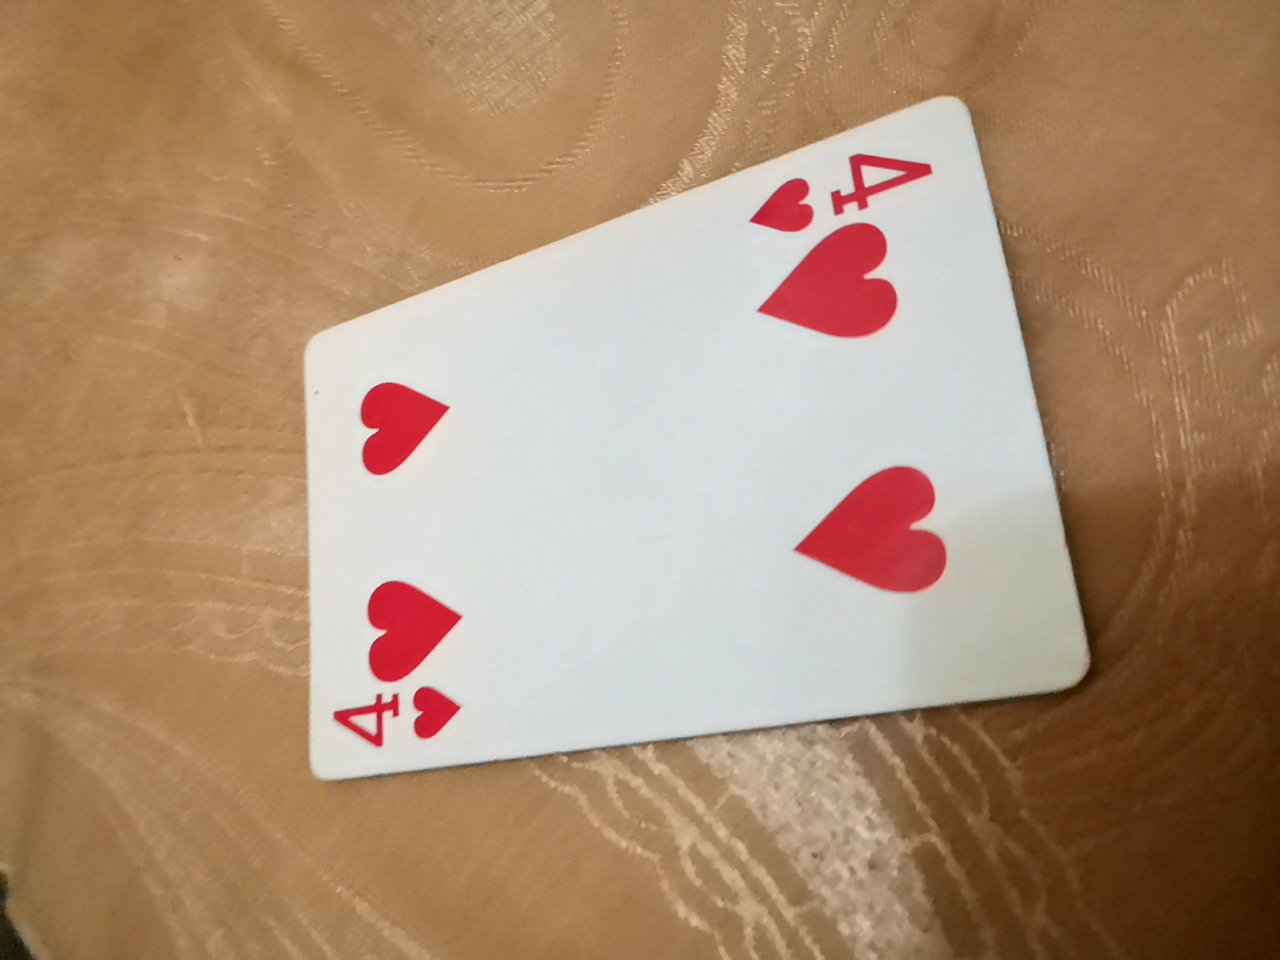hx 4: (286, 86, 1094, 776)
